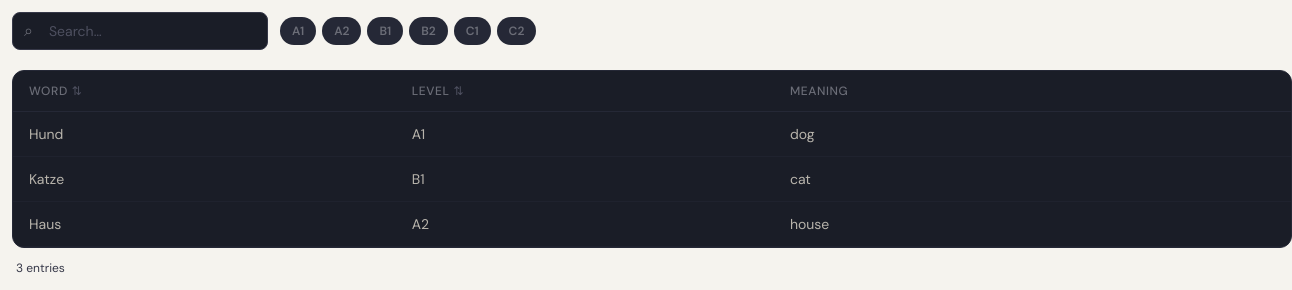
Test: DataTable › search input filters rows to matching entries
Type "hund" into the field with placeholder "Search…". click: (140, 31)
box: [12, 12, 268, 50]
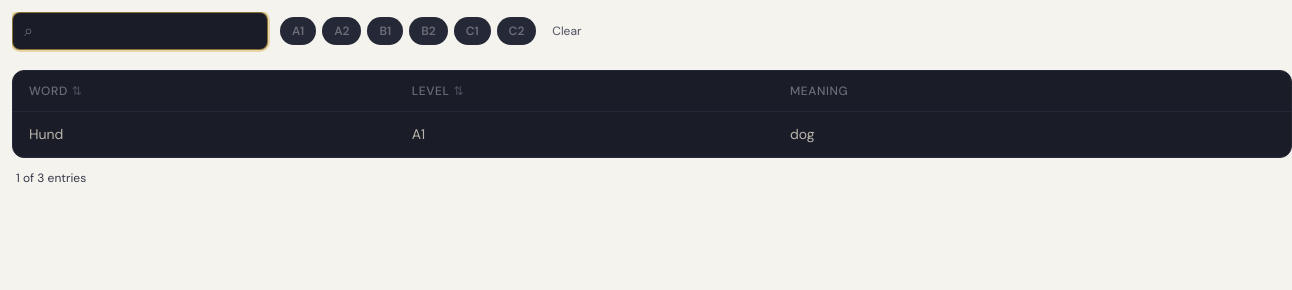
Expected: the text "Hund" is shown, [29, 125, 63, 143]
Now the text "Katze" is gone
Now the text "Haus" is gone
